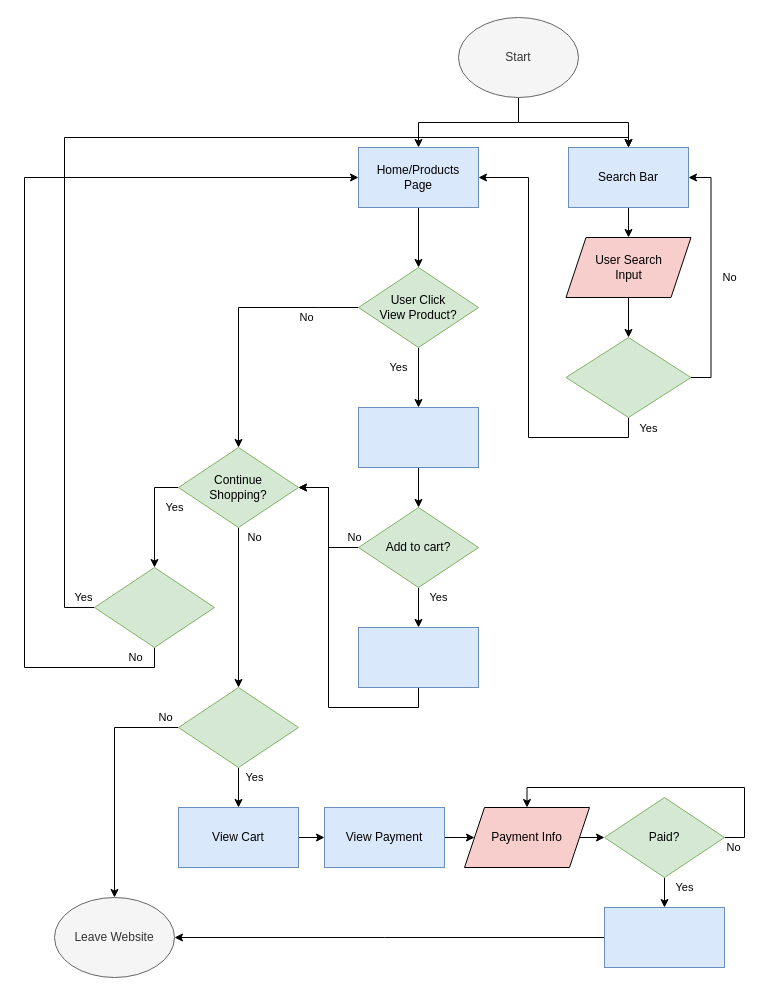
This 770x995 diagram has some shape labels left out. The centre of each missing label's shape, as x and y in pixels:
"Add item to cart" belongs at (418,657).
"Checkout?" belongs at (238,727).
"Does product exist?" belongs at (628,377).
"Order Confirmation/Send Order Email" belongs at (664,937).
"Search for item?" belongs at (154,607).
"Specific Product Page" belongs at (418,437).
